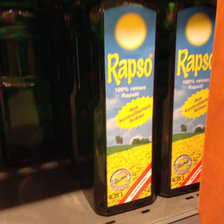oil: (77, 3, 159, 217), (153, 2, 216, 197)
